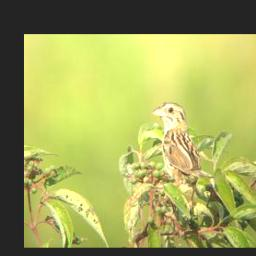Sparrow: (151, 99, 215, 210)
